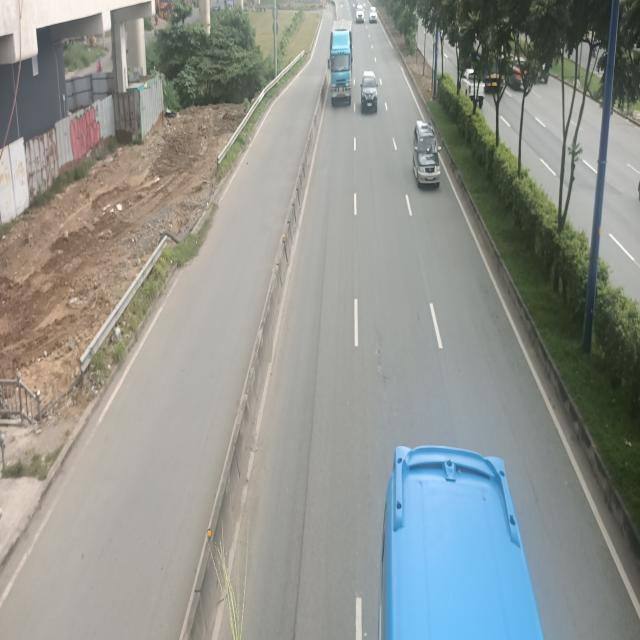car: (413, 120, 441, 187), (359, 70, 378, 114)
coach: (380, 445, 547, 640)
truck: (330, 26, 354, 106)
